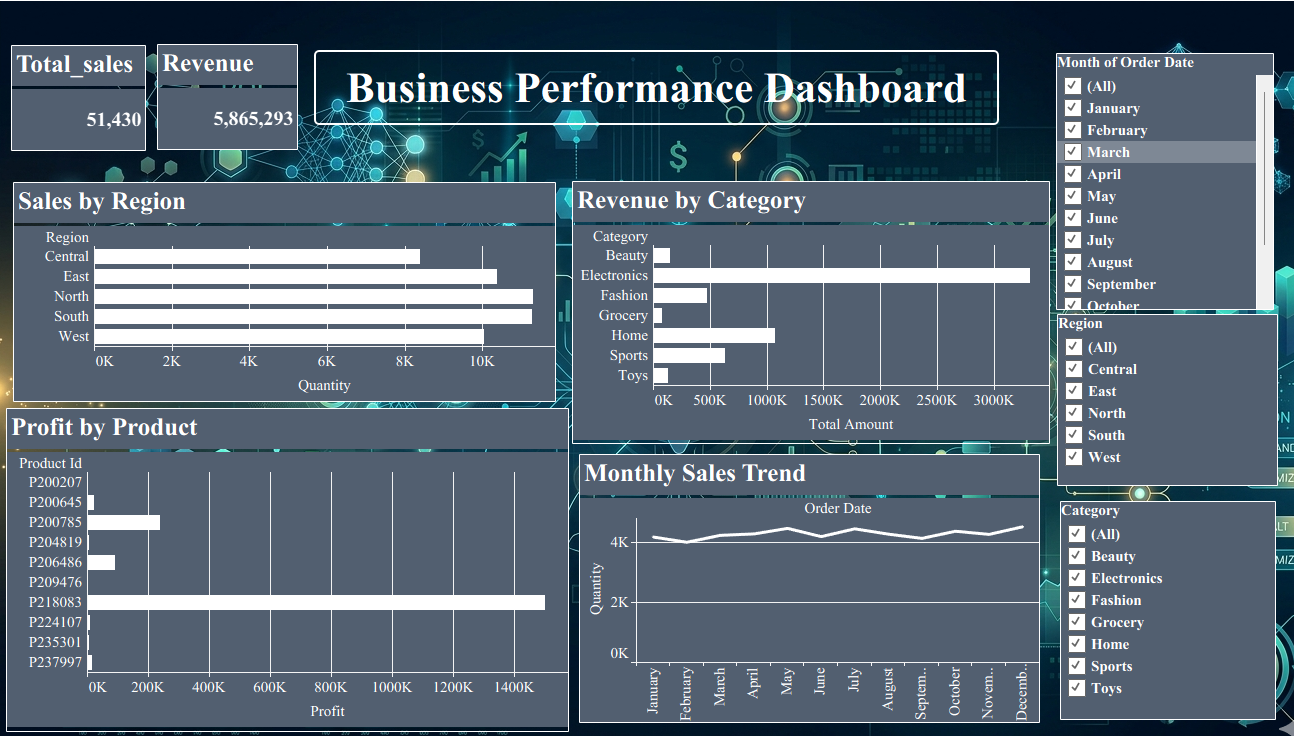

The dashboard page shown, as its layout file describes it:
{"tool":"tableau","page":{"name":"Dashboard 1","canvas":[1000,1000],"units":"permille","ordinal":0},"visuals":[{"type":"image","param":"C:/Users/anjan/Downloads/Gemini_Generated_Image_b315zfb315zfb315.png","box":[6.1,10.5,987.9,978.9]},{"type":"worksheet","title":"Sheet 7","mark":"Automatic","box":[128.8,72.4,106.8,139.5]},{"type":"worksheet","title":"Sheet 6","mark":"Automatic","box":[18.2,73.7,102.3,139.5]},{"type":"title","box":[247.7,80.3,518.9,98.7]},{"type":"filter","title":"Sheet 4","param":"[federated.0023edd10duze80zt1h8f1etblaj].[mn:order_date:ok]","box":[809.9,84.2,165.2,338.2]},{"type":"worksheet","title":"Sheet 3","mark":"Automatic","rows":["category"],"cols":["total_amount"],"box":[443.2,252.6,362.1,346.1]},{"type":"worksheet","title":"Sheet 2","mark":"Automatic","rows":["region"],"cols":["quantity"],"box":[19.7,254,411.4,289.5]},{"type":"filter","title":"Sheet 2","param":"[federated.0023edd10duze80zt1h8f1etblaj].[none:region:nk]","box":[810.6,427.6,167.4,226.3]},{"type":"worksheet","title":"Sheet 1","mark":"Automatic","rows":["product_id"],"cols":["Calculation_0816994269614080"],"box":[14.4,551.3,426.5,426.3]},{"type":"worksheet","title":"Sheet 4","mark":"Automatic","rows":["quantity"],"cols":["order_date"],"box":[448.5,611.8,349.2,353.9]},{"type":"filter","title":"Sheet 3","param":"[federated.0023edd10duze80zt1h8f1etblaj].[none:category:nk]","box":[812.9,673.7,163.6,288.2]}]}

Visuals, with their boxes on the dashboard's canvas, which has no fixed pixel size, in thousandths of its width and height (x1, y1, x2, y2). These are canvas units, not pixel positions in the 1294x736 screenshot, which may show the page scaled, cropped or inside an application window:
image: 6,10,994,989
"Sheet 7" worksheet: 129,72,236,212
"Sheet 6" worksheet: 18,74,120,213
title: 248,80,767,179
"Sheet 4" filter: 810,84,975,422
"Sheet 3" worksheet: 443,253,805,599
"Sheet 2" worksheet: 20,254,431,544
"Sheet 2" filter: 811,428,978,654
"Sheet 1" worksheet: 14,551,441,978
"Sheet 4" worksheet: 448,612,798,966
"Sheet 3" filter: 813,674,976,962
